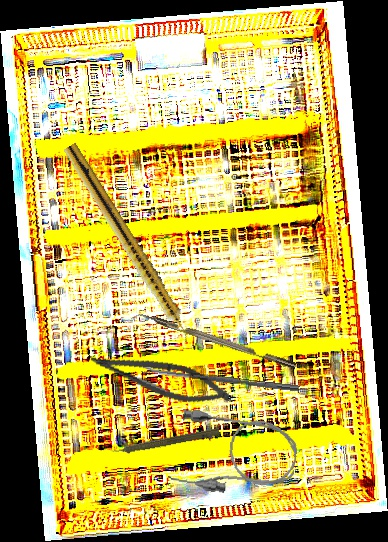Cannula: (167, 407, 301, 502)
Chopper: (130, 307, 297, 378)
Handpiece: (59, 142, 197, 346), (104, 423, 221, 459)
Micro Scissor: (84, 345, 234, 412)
Surgical Spoon: (141, 365, 300, 392)
